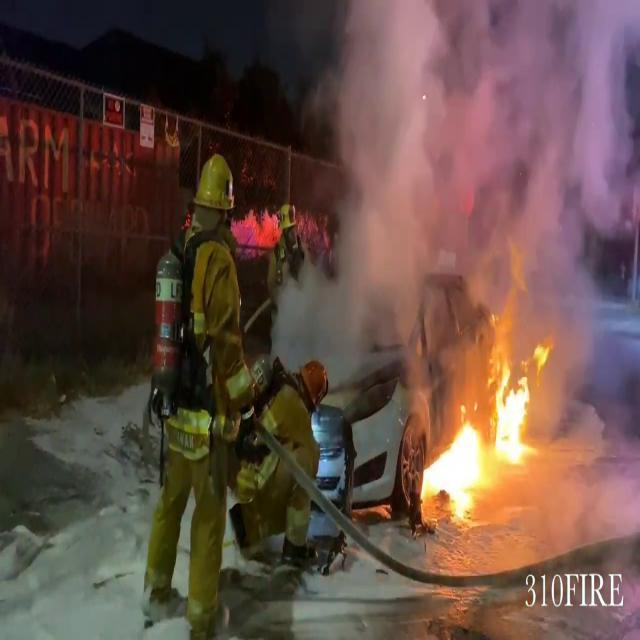Fire: (418, 343, 556, 517)
Smoke: (292, 0, 639, 389)
